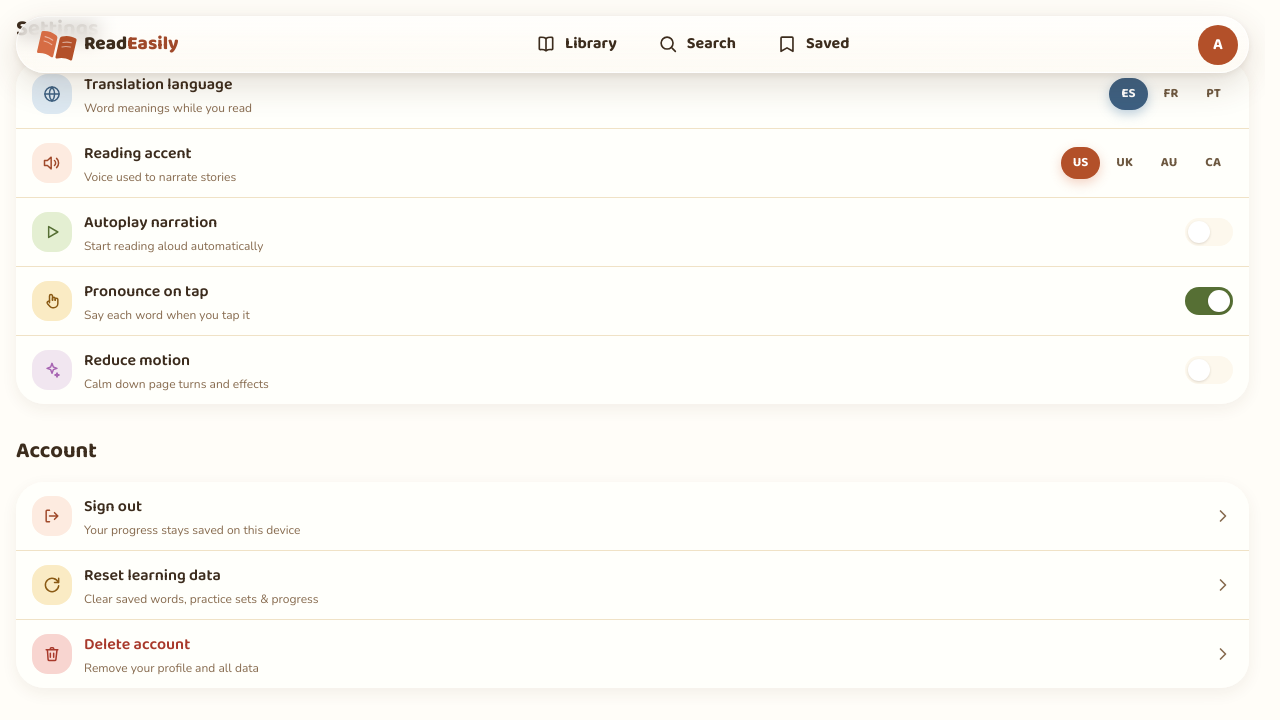
Scenario: ProfileScreen — destructive account rows confirm before acting › opens a confirm modal for Reset learning data
(page scrolled)
Expected: the heading "Account" is shown, x1=16 y1=433 x2=97 y2=469
What coordinates should you click on to do the following:
click the button "Reset learning data"
I would click on:
 (52, 585)
Its box is x1=16 y1=551 x2=1249 y2=620.
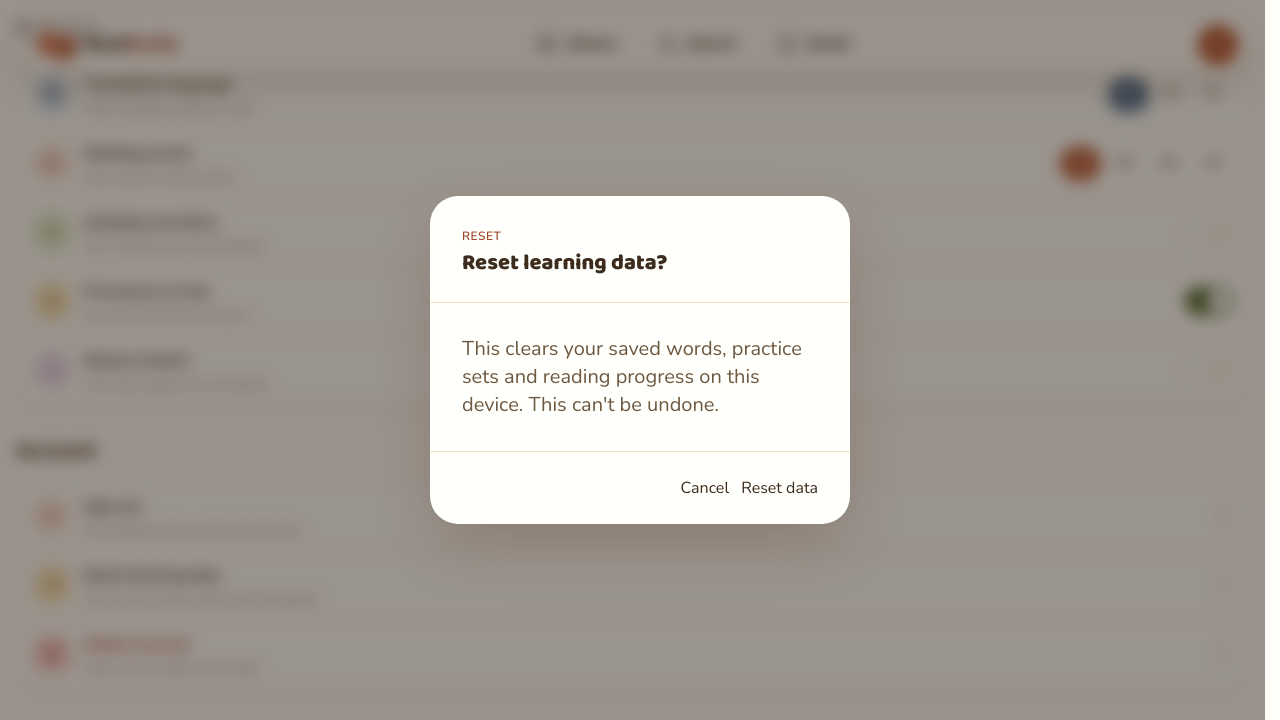
Result: the heading "Reset learning data?" is shown at x1=462 y1=248 x2=667 y2=278
